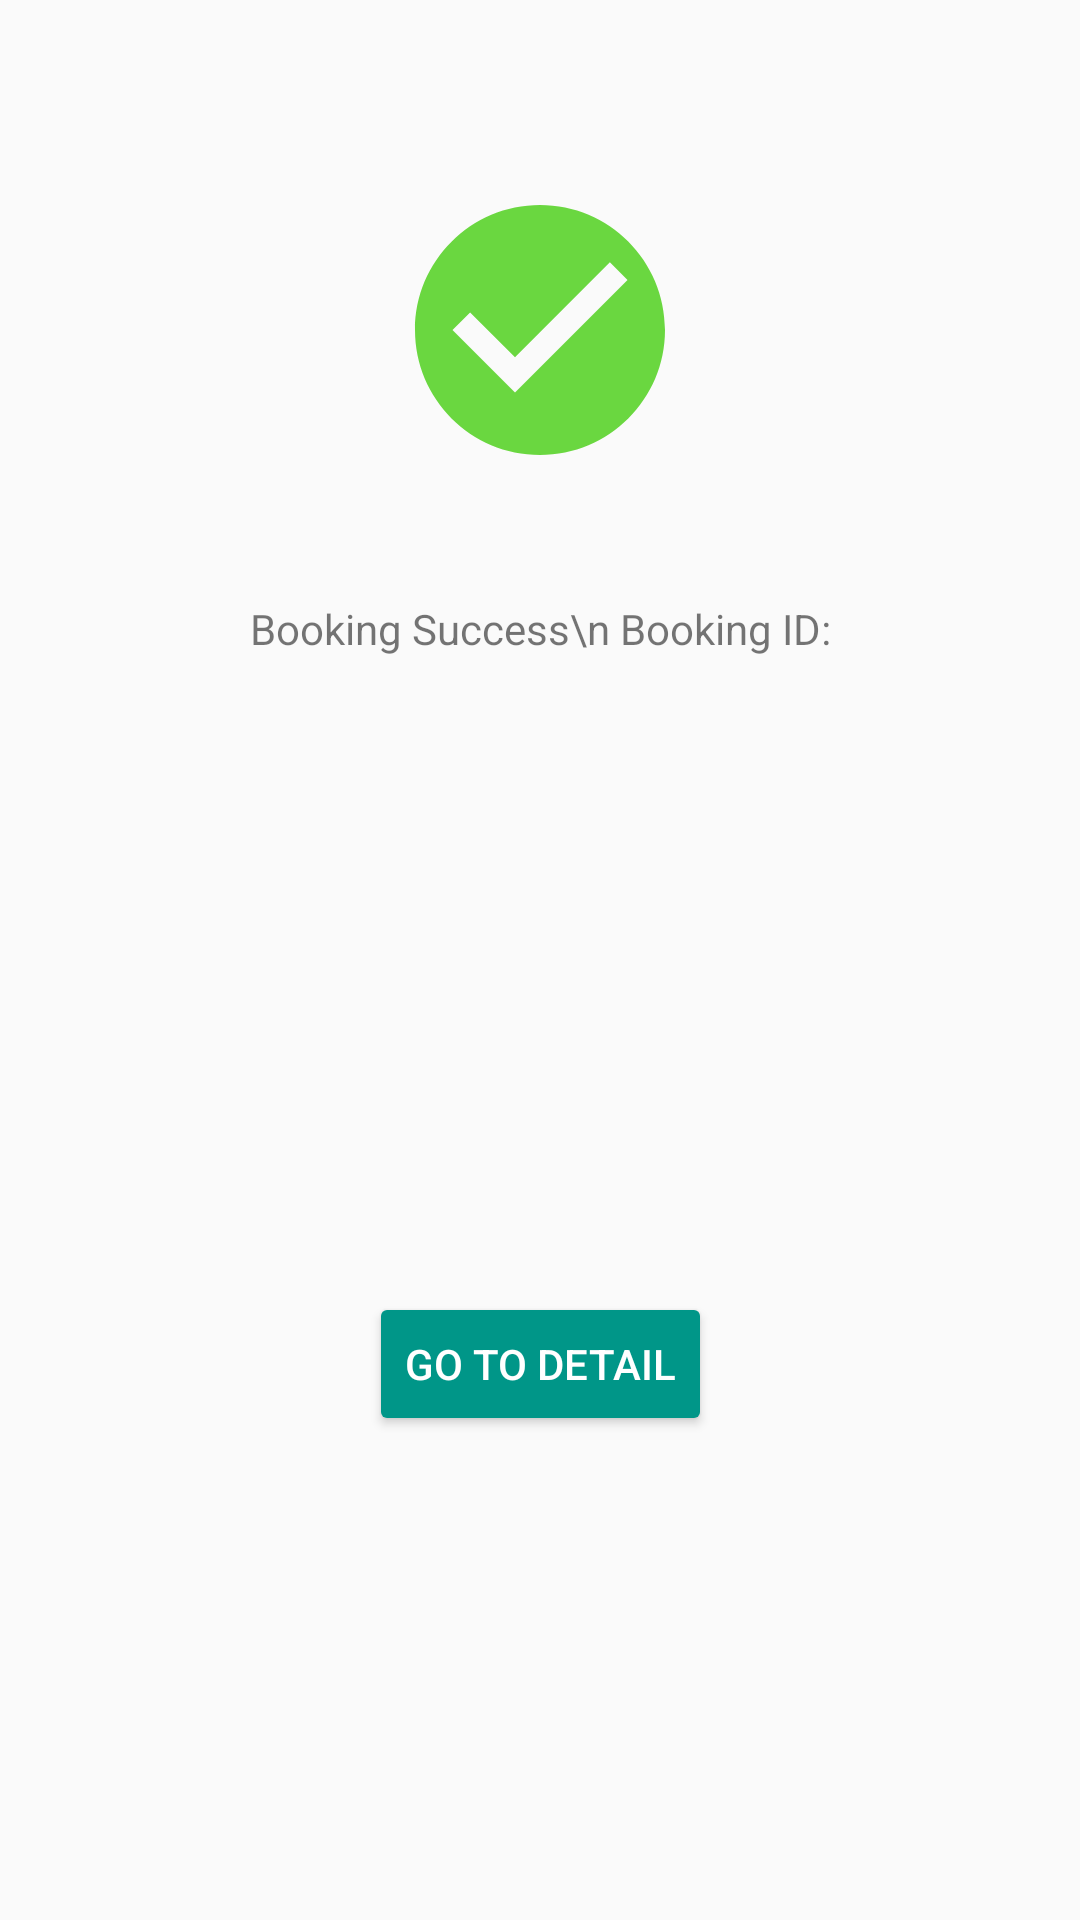

Icon bounding boxes for this 1080w x 1920h phone screenshot, format (x1, y1, x2, y2):
check circle: (415, 205, 665, 455)
